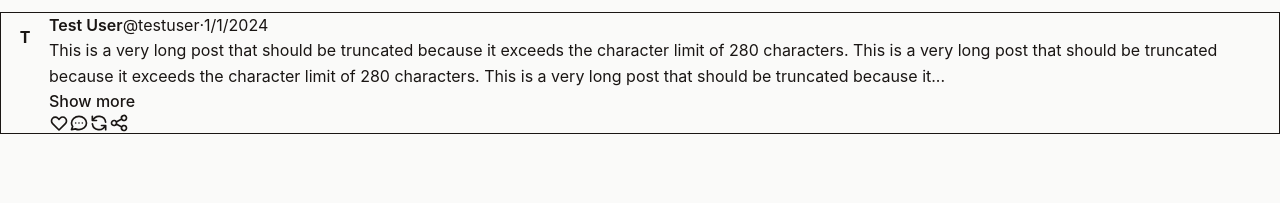
it: PostCard › Truncation › should collapse content when Show Less is clicked
What coordinates should you click on to do the following:
click the button "Show more"
I would click on:
 (92, 101)
Its box is [49, 89, 135, 113].
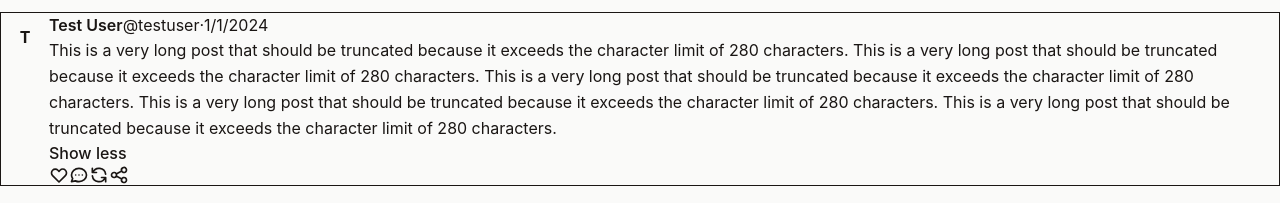
What coordinates should you click on to do the following:
click the button "Show less"
I would click on:
 (88, 153)
Its box is [49, 141, 127, 165].
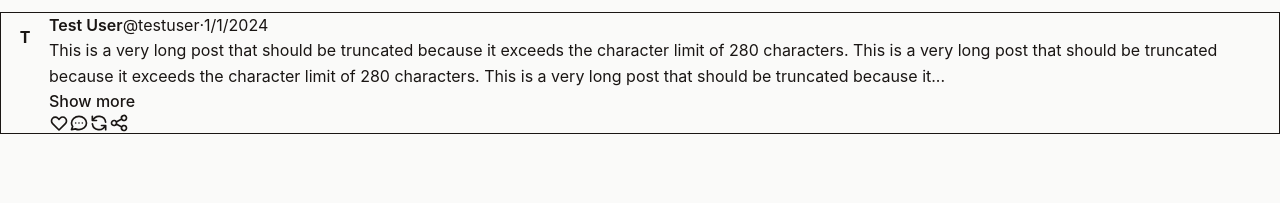
expect the button "Show more" is shown: met, box [49, 89, 135, 113]
